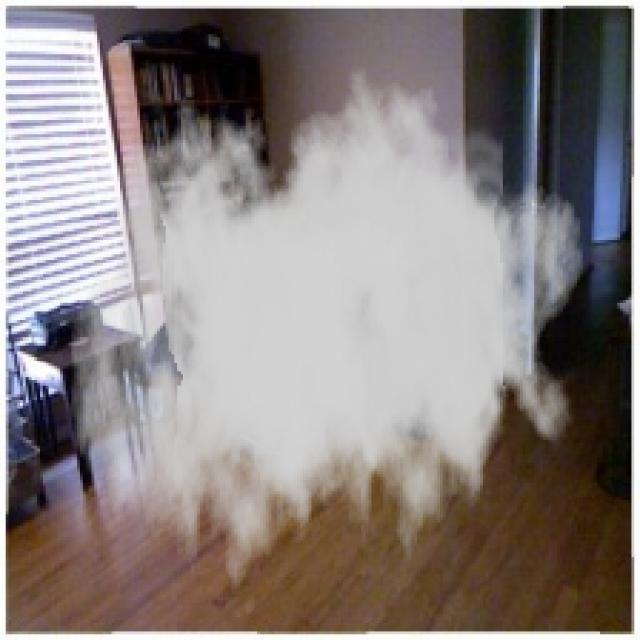Smoke: (69, 57, 586, 617)
